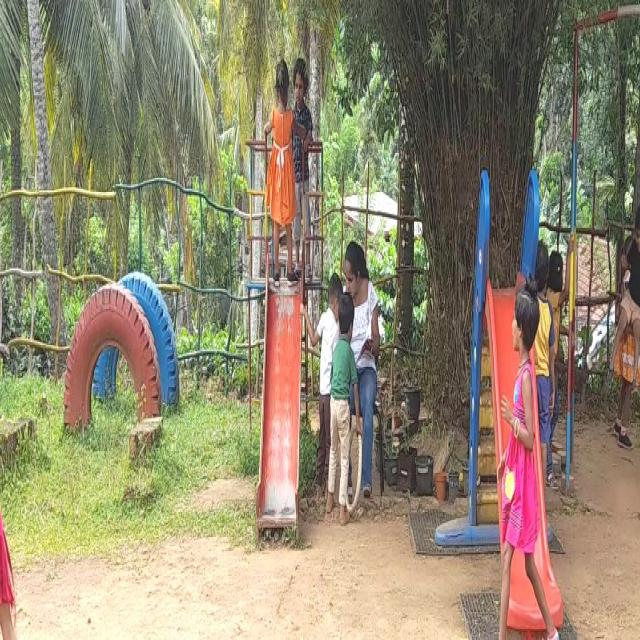adult: (340, 226, 382, 506)
child: (500, 284, 552, 640), (0, 329, 40, 640), (268, 42, 297, 284), (318, 253, 340, 476), (613, 196, 640, 363)
